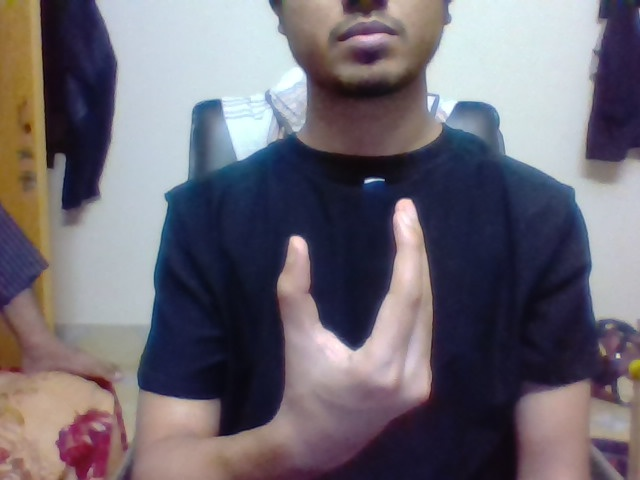U: (258, 186, 460, 376)
